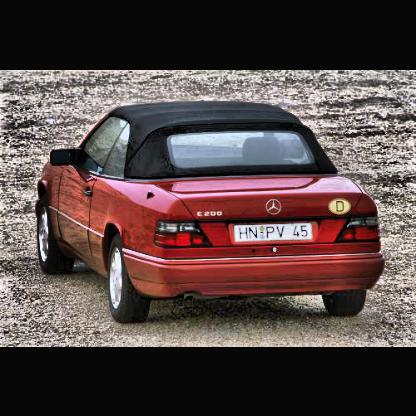Mercedes-Benz 300-Class Convertible 1993: (31, 99, 389, 330)
